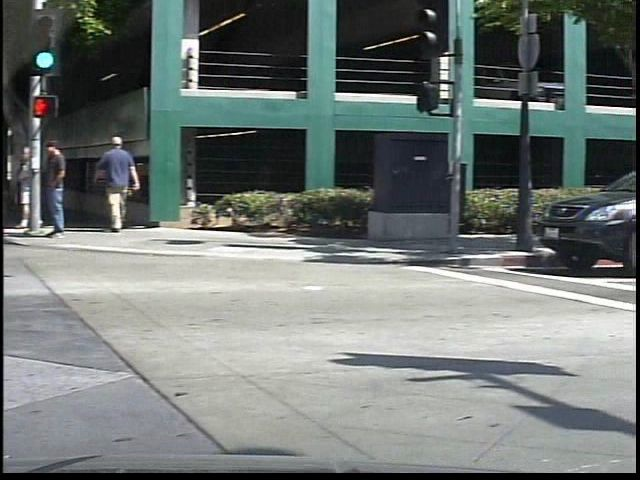person: (104, 134, 158, 235), (46, 132, 85, 244), (26, 143, 50, 233)
